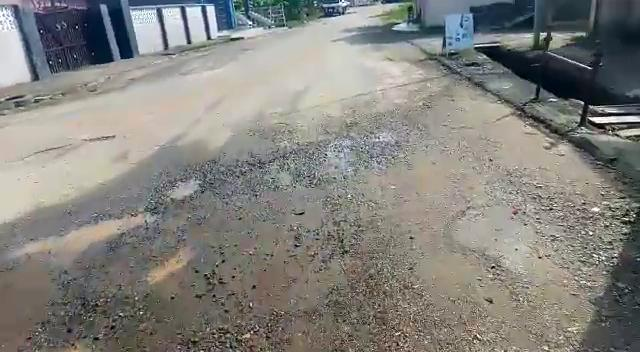pothole: (168, 175, 202, 200)
